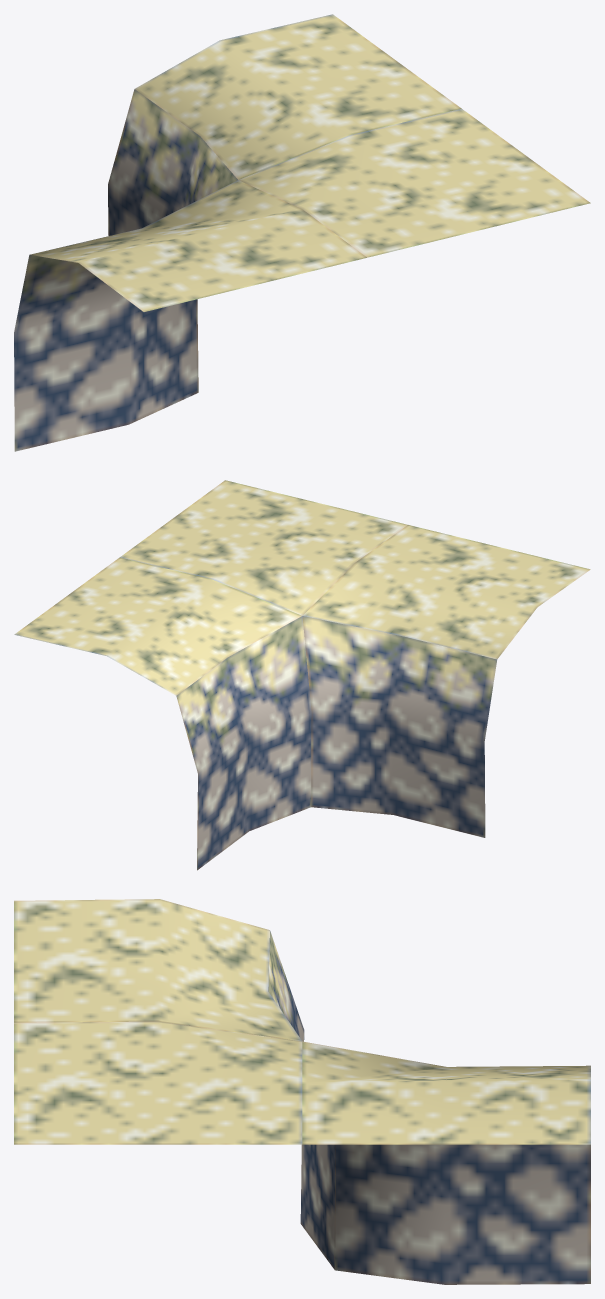
File: sandCTile_innerCorner_lowerRight.fbx
3 renders of one model, top to bottom at view 1: azimuth 30°, elevation 25°; view 2: azimuth 150°, elevation 25°; view 3: azimuth 270°, elevation 25°, orthographic. The views are drawn at different scales.
Visible parts, largest first — view 1: sandCTile_innerCorner_lowerRight; view 2: sandCTile_innerCorner_lowerRight; view 3: sandCTile_innerCorner_lowerRight.
Boxes of the visible parts, bbox=[...] form: sandCTile_innerCorner_lowerRight: bbox=[14, 14, 590, 451]; sandCTile_innerCorner_lowerRight: bbox=[14, 480, 590, 870]; sandCTile_innerCorner_lowerRight: bbox=[14, 899, 590, 1284].
Size of the model in its own units: 2 by 1.01 by 2.
